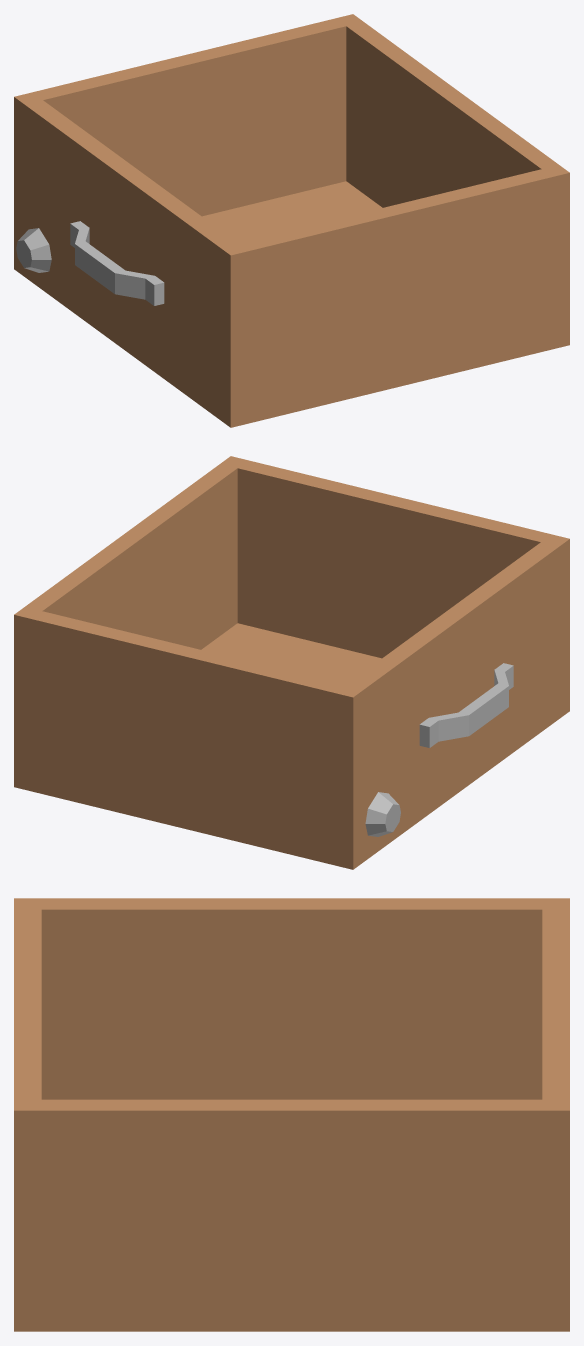
File: StoreConfidential_ALL_DrawerLockAnim_v8.gltf
3 renders of one model, top to bottom at view 1: azimuth 30°, elevation 25°; view 2: azimuth 150°, elevation 25°; view 3: azimuth 270°, elevation 25°, orthographic. The views are drawn at different scales.
Visible parts, largest first — view 1: DrawerLock_anim; view 2: DrawerLock_anim; view 3: DrawerLock_anim.
Part boxes in pixels (<box>): DrawerLock_anim: <box>14,14,569,427</box>; DrawerLock_anim: <box>14,456,569,869</box>; DrawerLock_anim: <box>14,898,569,1331</box>.
Bounding box in the file's own units: 1.12 × 0.5014 × 1.14.
